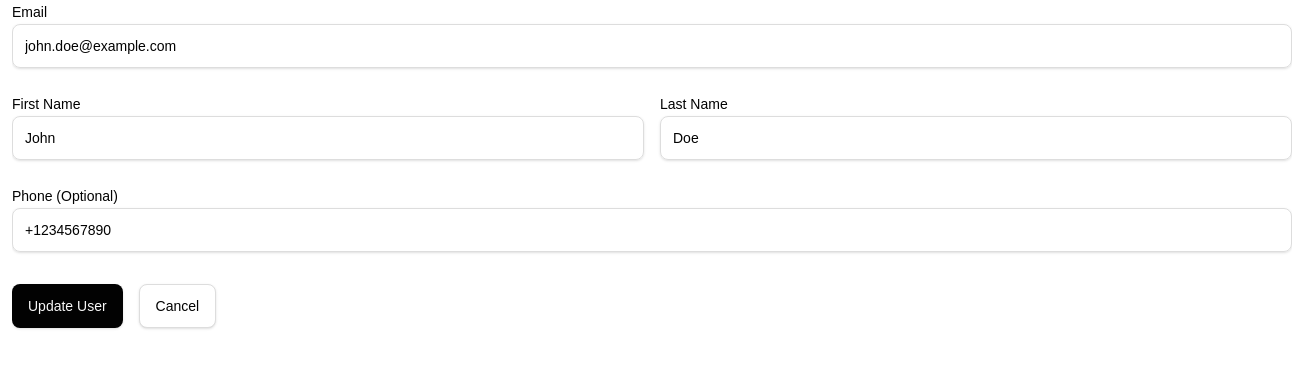
UserEditForm › Form Validation › should show validation error for short last name
Type "D" into the field labelled "Last Name".
click(976, 138); type("D")  # box 660,116 -> 1292,160
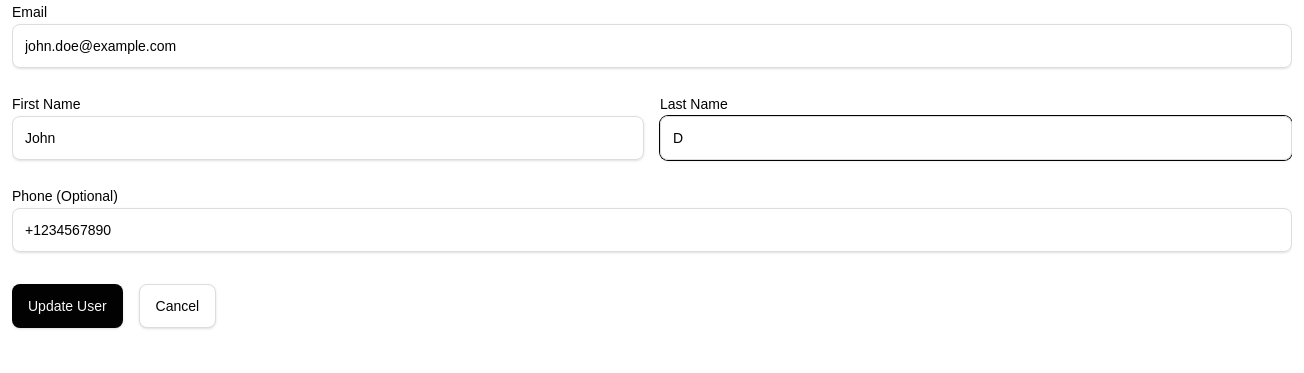
Click the button "Update User".
click(67, 306)  # box 12,284 -> 123,328
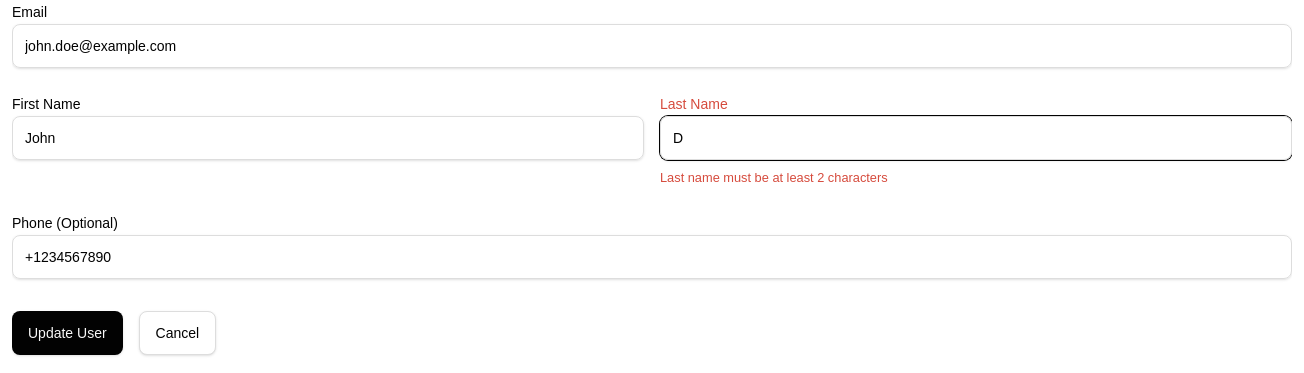
Check: the text "Last name must be at least 2 characters" is shown, box 660,170 -> 888,185
